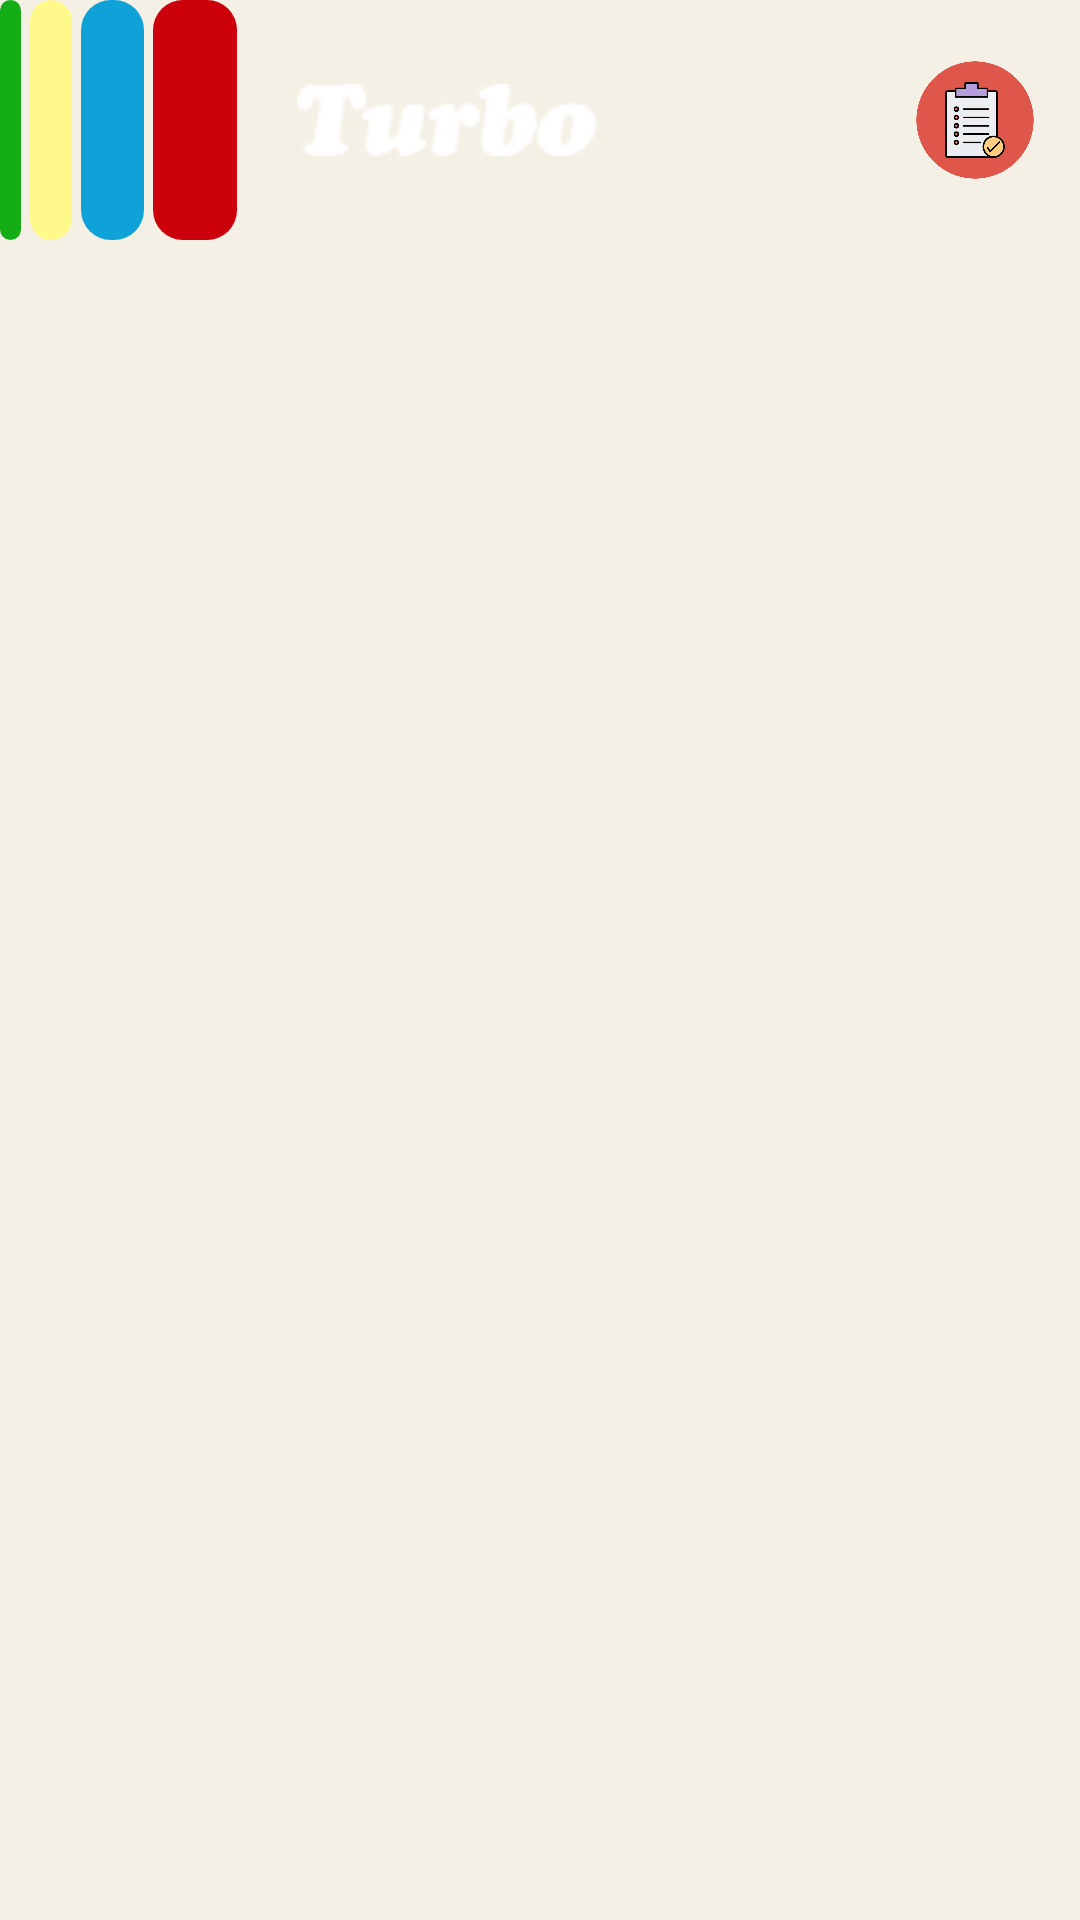

Icons on this 1080 x 1920 Android screen, each with its box as (x1, y1, x2, y2):
list fav: (916, 61, 1034, 179)
